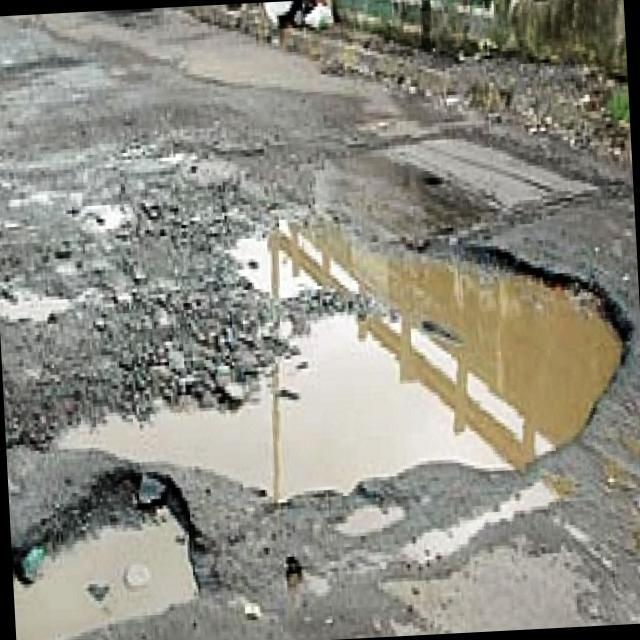Pothole: (52, 177, 640, 503), (13, 463, 208, 640)
